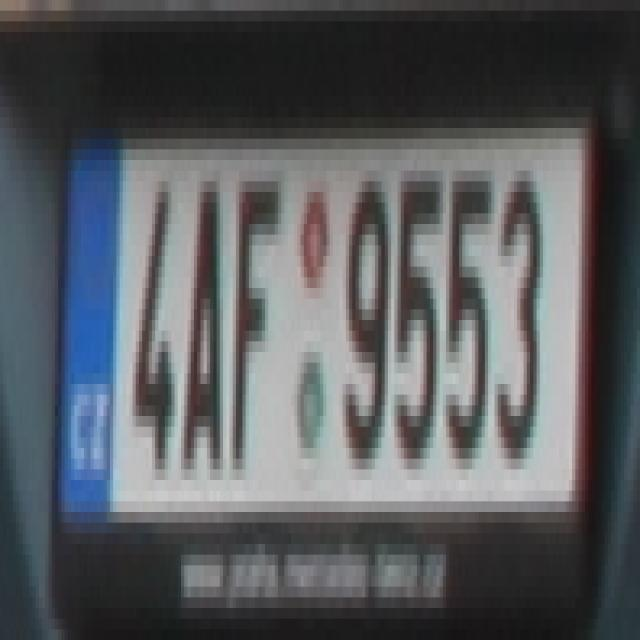3: (498, 181, 549, 448)
4: (129, 170, 175, 458)
5: (391, 160, 436, 469), (443, 170, 488, 458)
9: (336, 160, 388, 469)
A: (181, 170, 226, 490)
F: (233, 160, 278, 469)
